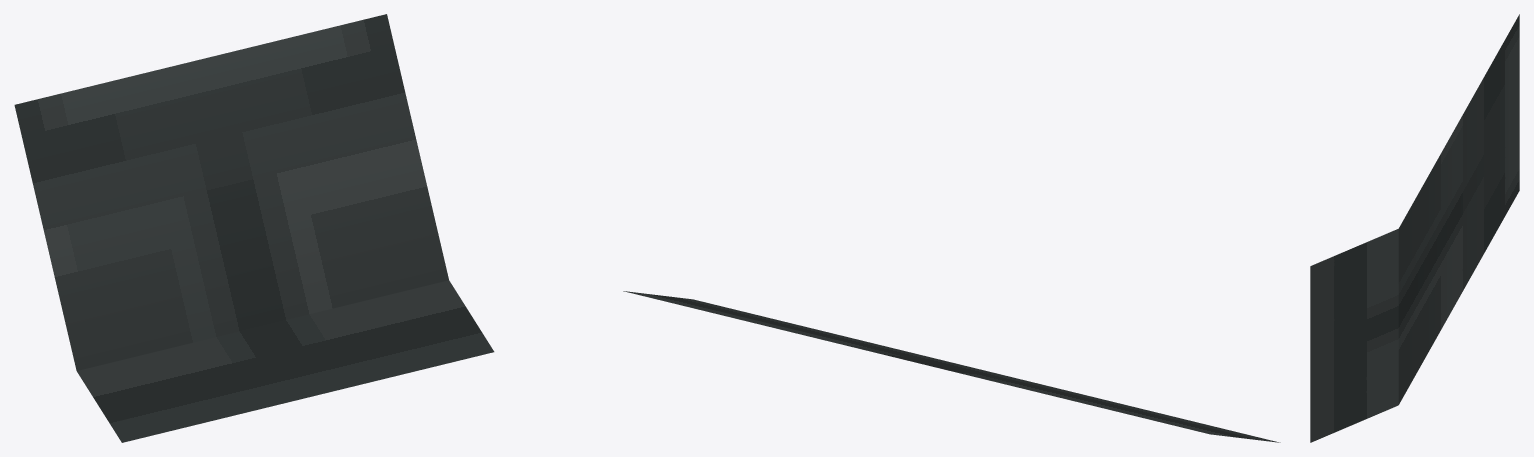
3 renders of one model, left to right at view 1: azimuth 30°, elevation 25°; view 2: azimuth 150°, elevation 25°; view 3: azimuth 270°, elevation 25°, orthographic. The views are drawn at different scales.
Size of the model in its own units: 1 by 0.6652 by 0.5.
1 material, 1 textured.
